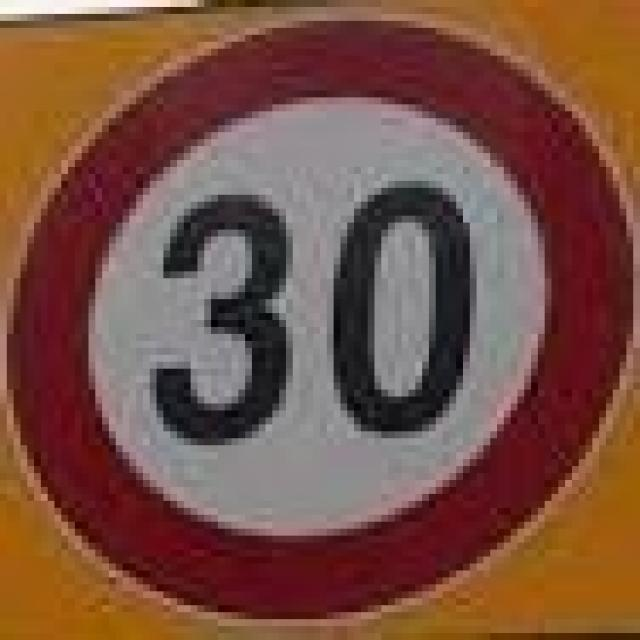traffic_sign: (0, 0, 626, 626)
